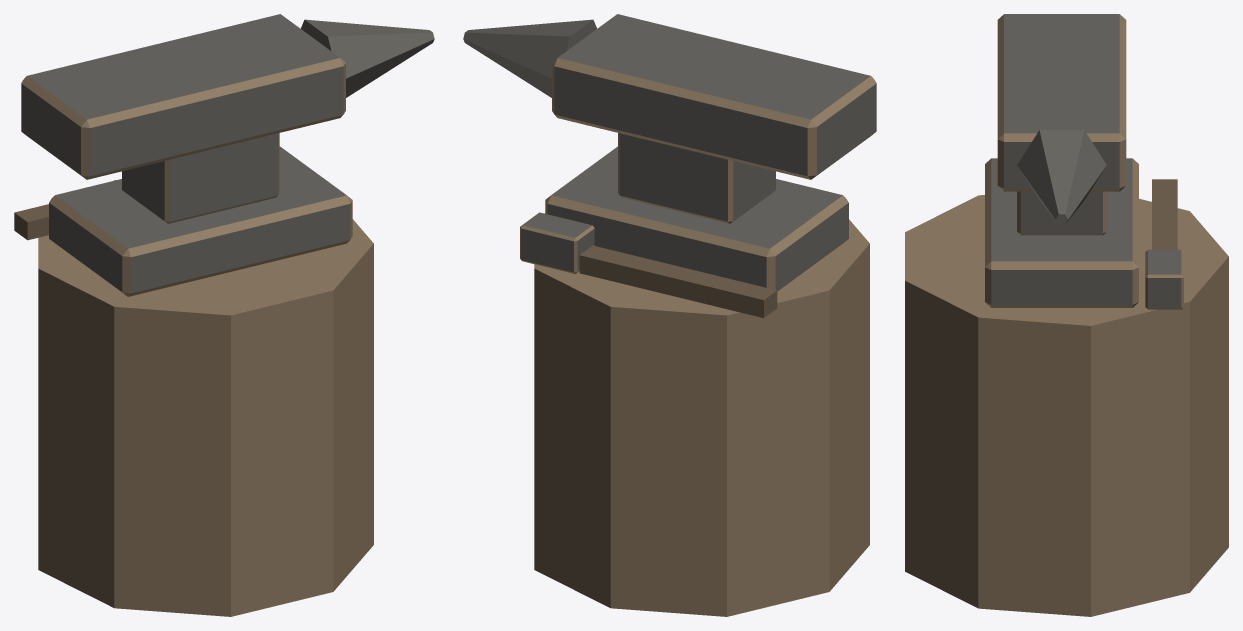
Rendered from anvil.glb.
The picture shows the model from 3 angles, left to right: view 1: azimuth 30°, elevation 25°; view 2: azimuth 150°, elevation 25°; view 3: azimuth 270°, elevation 25°; orthographic projection. The views are drawn at different scales.
Parts seen in each view (by area): view 1: Anvil; view 2: Anvil; view 3: Anvil.
Boxes of the visible parts, x1,y1,x2,y2 form: Anvil: (14,14,434,616); Anvil: (463,14,876,616); Anvil: (905,14,1228,616).
Bounding box in the file's own units: 0.66 × 0.8106 × 0.5043.
